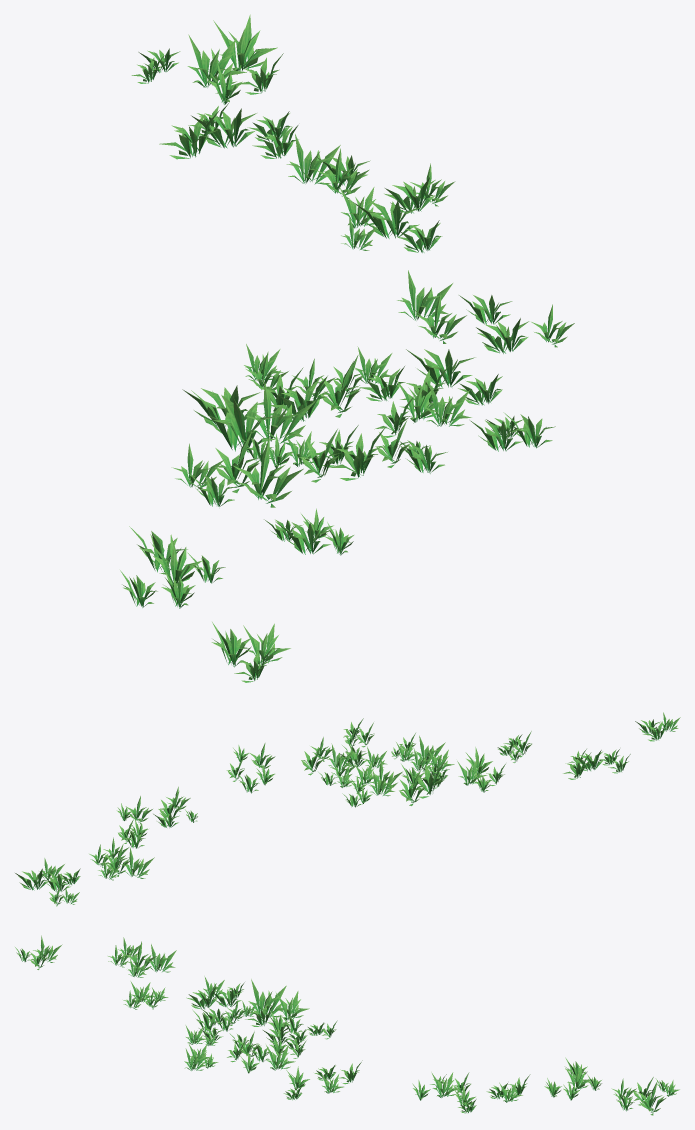
Rendered from area_03_1.FBX.
3 renders of one model, top to bottom at view 1: azimuth 30°, elevation 25°; view 2: azimuth 150°, elevation 25°; view 3: azimuth 270°, elevation 25°, orthographic. The views are drawn at different scales.
Parts seen in each view (by area): view 1: area_03_1; view 2: area_03_1; view 3: area_03_1.
Part boxes in pixels (x1,y1,x2,y2): area_03_1: (120,14,574,682); area_03_1: (15,712,680,906); area_03_1: (15,935,679,1115).
Size of the model in its own units: 17.1 by 1.64 by 29.25.
